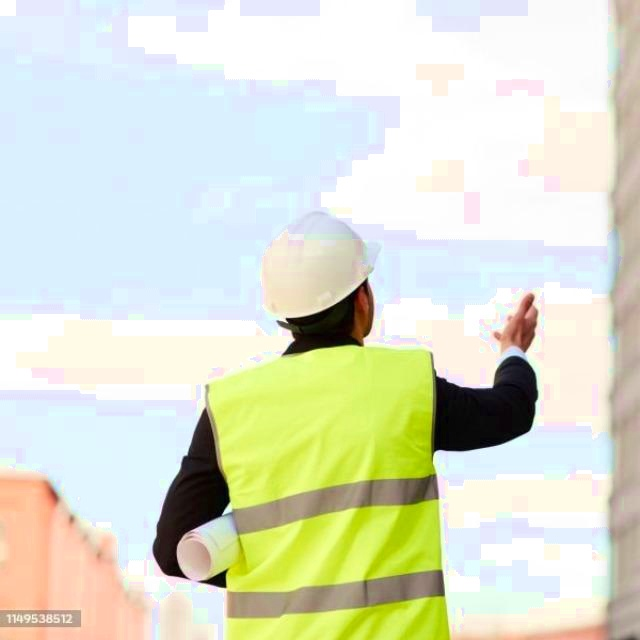Con_Casco: (259, 209, 381, 339)
Con_Chaleco: (211, 342, 449, 640)
